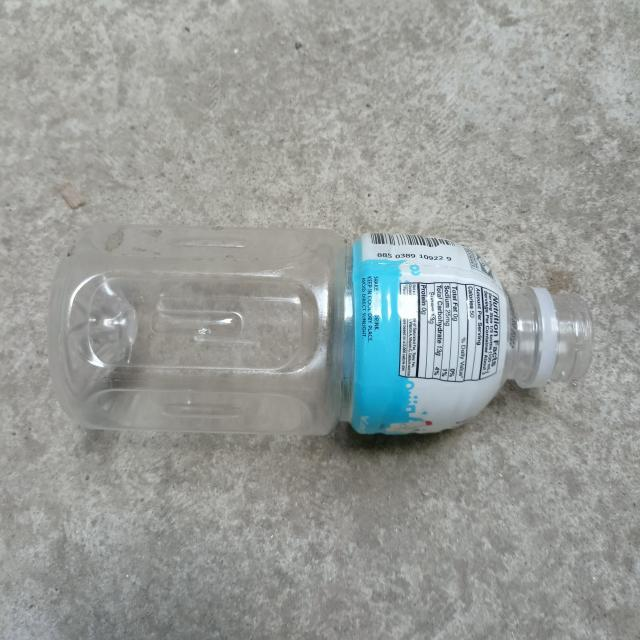Bottle: (48, 223, 593, 435)
